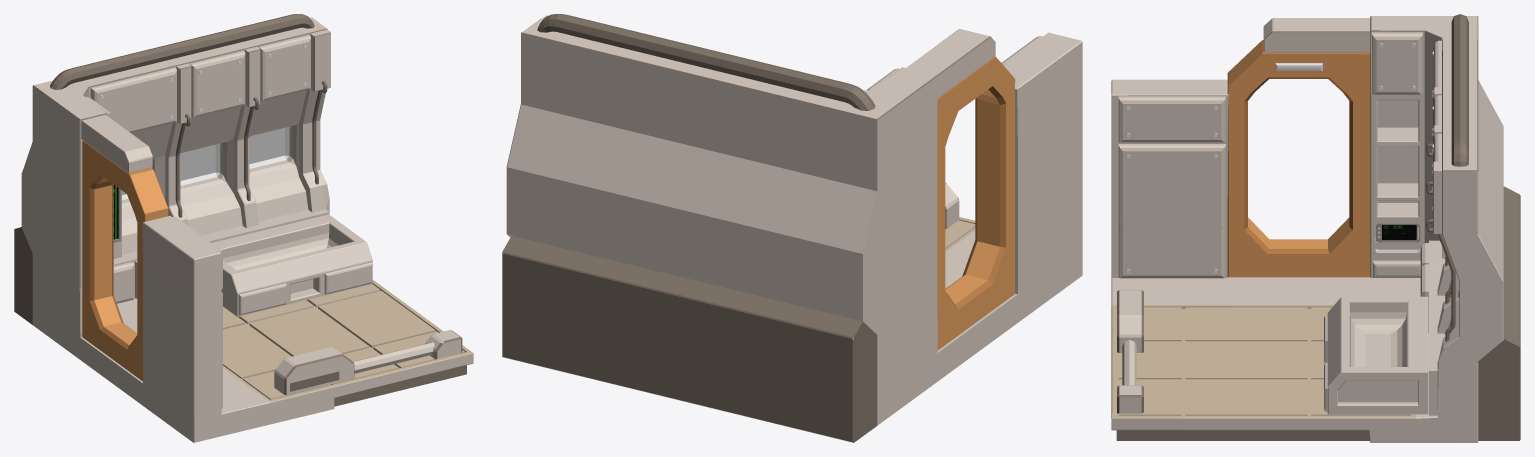
The model's file is room1 matbezanim.fbx.
3 views of the same model, side by side, from view 1: azimuth 30°, elevation 25°; view 2: azimuth 150°, elevation 25°; view 3: azimuth 270°, elevation 25° (orthographic). The views are drawn at different scales.
Parts seen in each view (by area): view 1: Cube.002, Cube.004, Plane.003, Cube.007, Cylinder.002, Cube.005, Cube.001; view 2: Cube.002, Plane.003; view 3: Cube.002, Plane.003, Cube.004, Cube.007, Cylinder.001, Cube.005, Cylinder.002.
Part boxes in pixels (<box>): Cube.002: <box>14,14,473,442</box>; Cube.004: <box>212,214,372,316</box>; Plane.003: <box>82,140,168,381</box>; Cube.007: <box>274,347,354,394</box>; Cylinder.002: <box>353,342,434,373</box>; Cube.005: <box>425,330,462,359</box>; Cube.001: <box>113,185,121,242</box>; Cube.002: <box>502,14,1082,442</box>; Plane.003: <box>937,56,1015,350</box>; Cube.002: <box>1111,14,1520,442</box>; Plane.003: <box>1227,40,1370,277</box>; Cube.004: <box>1324,296,1428,414</box>; Cube.007: <box>1117,290,1143,352</box>; Cylinder.001: <box>1376,223,1420,242</box>; Cube.005: <box>1117,385,1143,413</box>; Cylinder.002: <box>1122,340,1136,385</box>.
Bounding box in the file's own units: 203 × 176 × 226.
